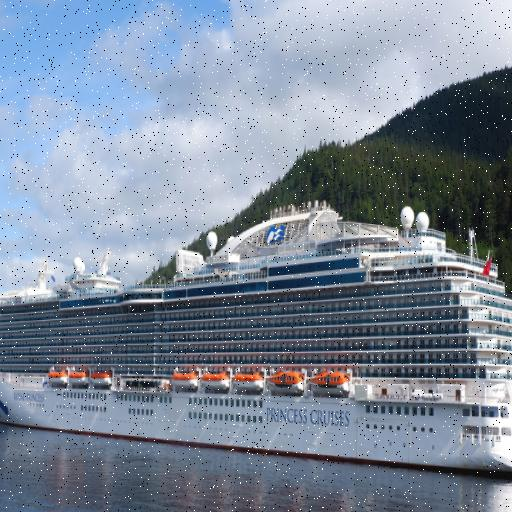cruises: (1, 199, 512, 487)
